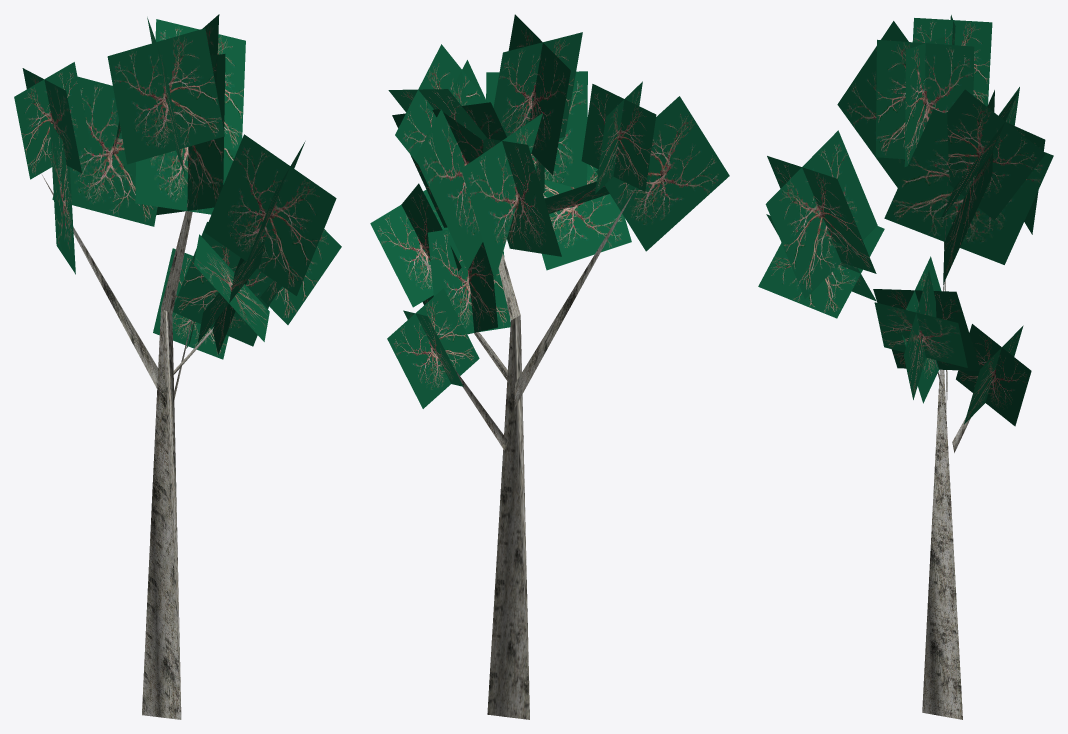
The model's file is decd_whitebirchtreebranches_a1_l2.fbx.
3 renders of one model, left to right at view 1: azimuth 30°, elevation 25°; view 2: azimuth 150°, elevation 25°; view 3: azimuth 270°, elevation 25°, orthographic. The views are drawn at different scales.
Parts seen in each view (by area): view 1: mesh_node; view 2: mesh_node; view 3: mesh_node.
Part boxes in pixels (<box>): mesh_node: <box>14,14,341,719</box>; mesh_node: <box>370,14,729,719</box>; mesh_node: <box>758,15,1053,719</box>.
Bounding box in the file's own units: 7.79 × 16.18 × 6.47.
